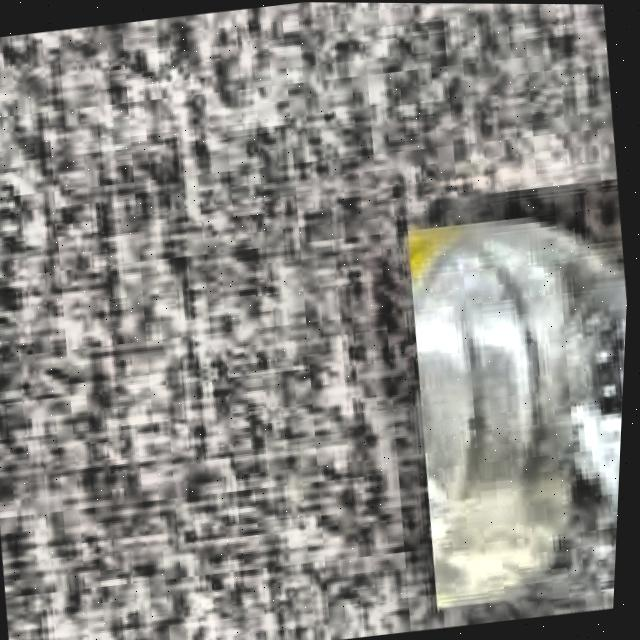plastic: (393, 177, 634, 610)
